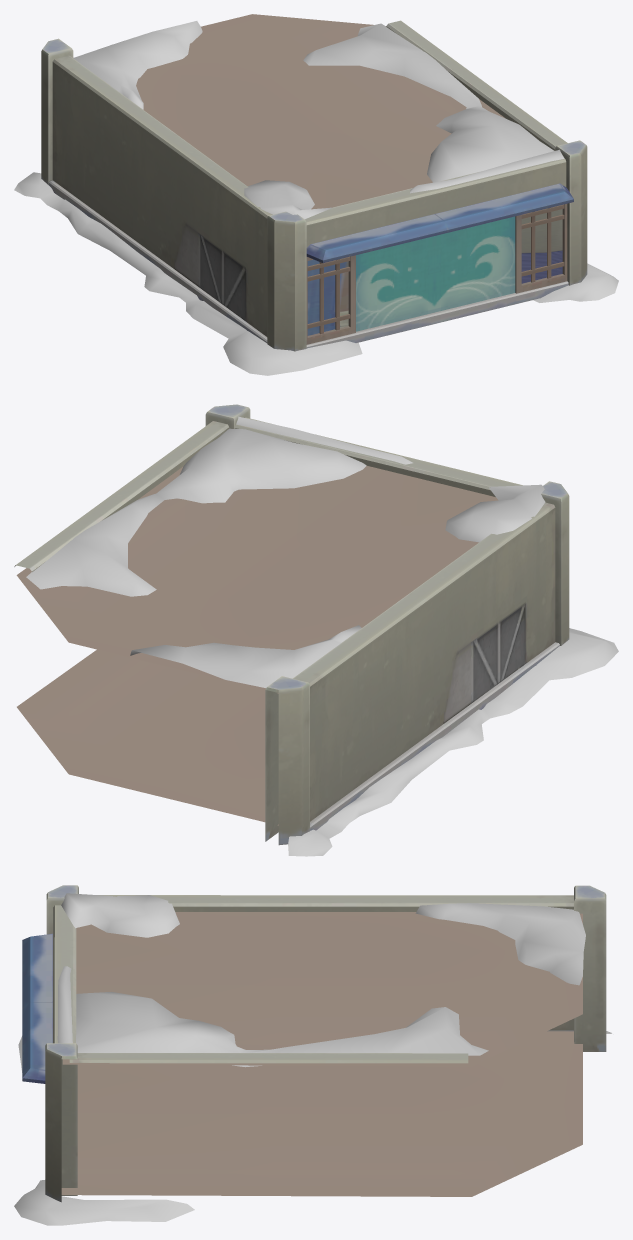
Rendered from pref_sm_city_shop06_snow_lv3.fbx.
3 renders of one model, top to bottom at view 1: azimuth 30°, elevation 25°; view 2: azimuth 150°, elevation 25°; view 3: azimuth 270°, elevation 25°, orthographic. The views are drawn at different scales.
Visible parts, largest first — view 1: sm_city_shop06_snow_lv3, sm_city_shop06b_snow_lv3; view 2: sm_city_shop06_snow_lv3, sm_city_shop06b_snow_lv3; view 3: sm_city_shop06_snow_lv3, sm_city_shop06b_snow_lv3.
Part boxes in pixels (x1,y1,x2,y2): sm_city_shop06_snow_lv3: (41, 14, 587, 351); sm_city_shop06b_snow_lv3: (14, 21, 618, 375); sm_city_shop06_snow_lv3: (14, 404, 569, 845); sm_city_shop06b_snow_lv3: (26, 416, 618, 856); sm_city_shop06_snow_lv3: (22, 885, 606, 1202); sm_city_shop06b_snow_lv3: (14, 893, 611, 1225).
Bounding box in the file's own units: 17.46 × 6.29 × 21.58.
2 materials, 1 textured.
